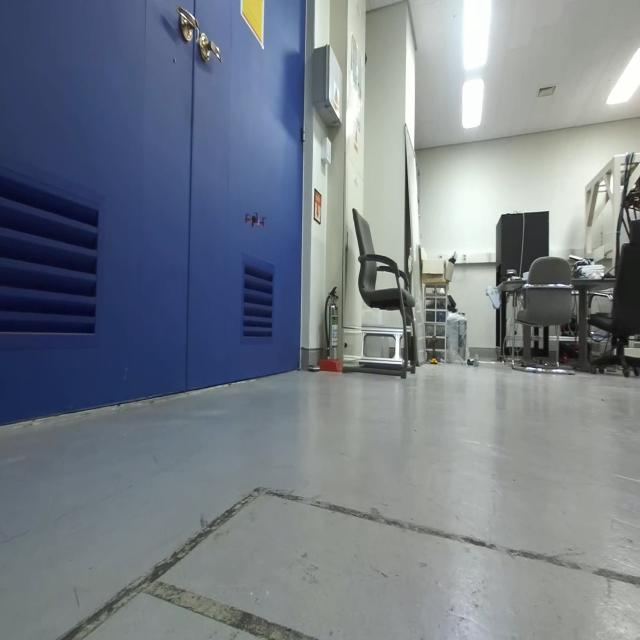crazyflie: (241, 202, 269, 236)
